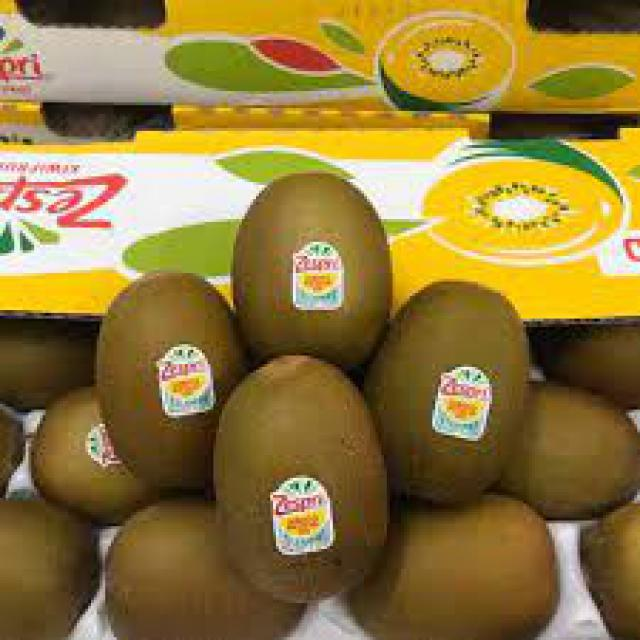kiwi: (368, 280, 533, 513), (89, 266, 251, 494), (229, 172, 400, 377), (342, 490, 567, 638), (103, 493, 314, 638), (30, 382, 195, 519), (490, 374, 638, 519), (4, 488, 118, 639)
